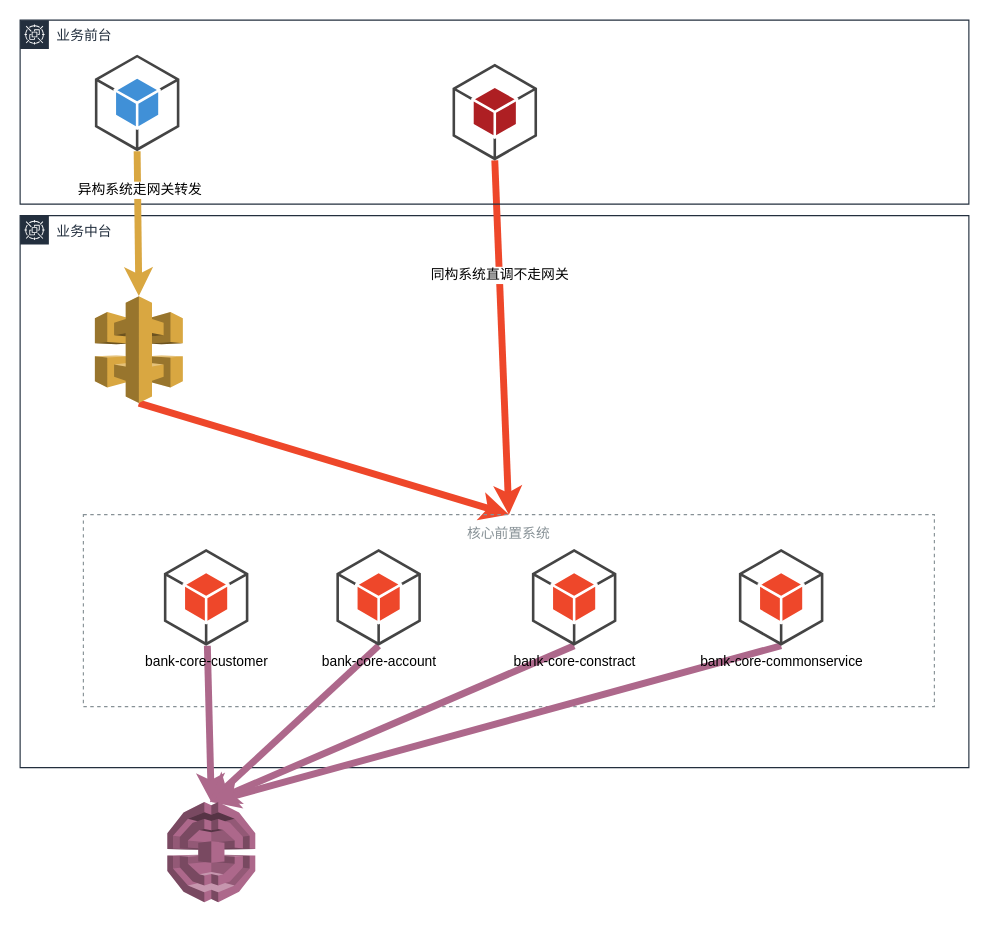
Image size: 989x946. Some labels were removed from this diagram. The centre of each missing label's shape, as x and y in pixels:
异构系统网关: (138,349)
手机银行: (494,111)
柜面: (136,102)
高阳核心系统: (210,851)
